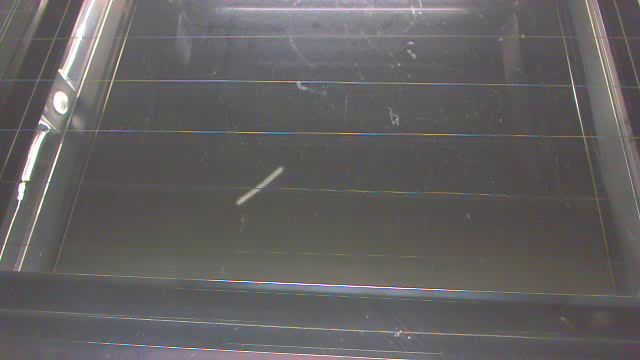alpha: (234, 165, 285, 206)
